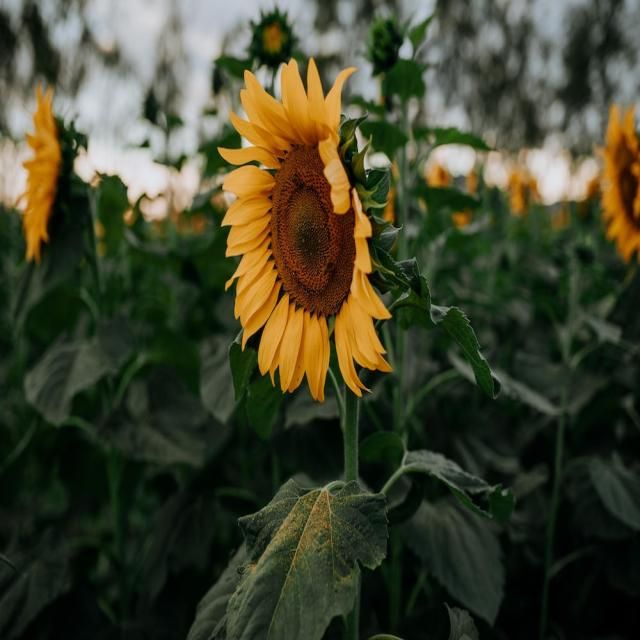sunflower: (205, 42, 398, 420), (15, 75, 73, 268), (591, 88, 640, 270), (502, 157, 549, 240), (362, 148, 403, 238), (420, 147, 453, 210)
